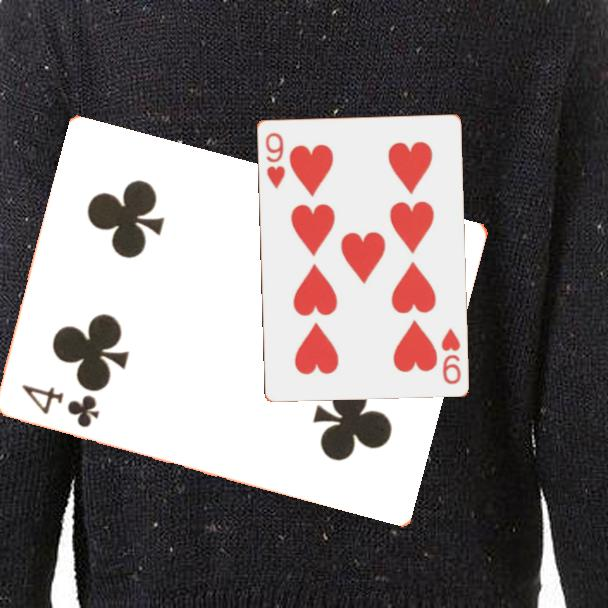c04: (18, 380, 103, 431)
h09: (437, 324, 463, 387), (262, 129, 288, 191)
